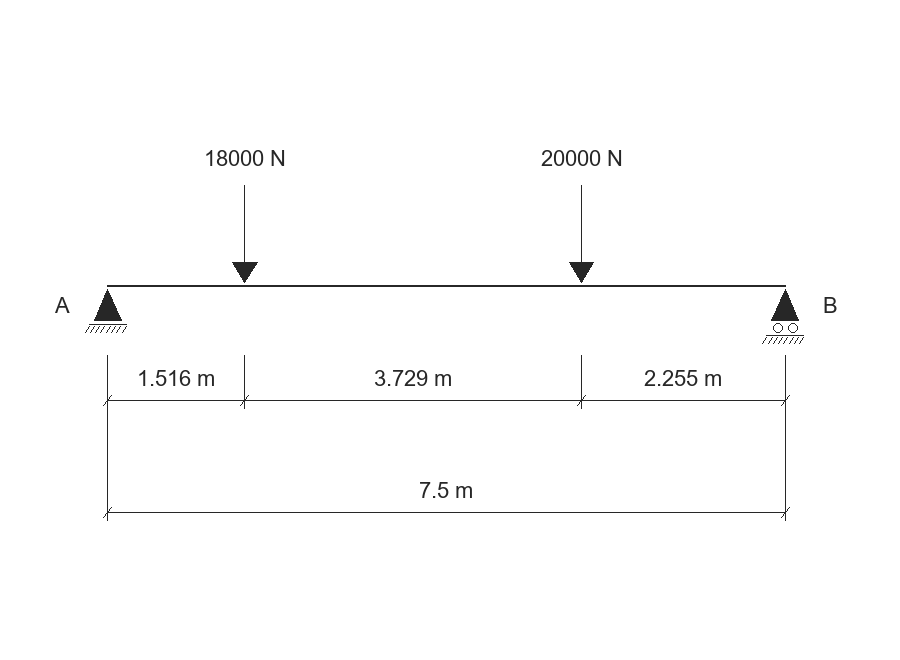pin_support: (85, 289, 127, 333)
point_load: (232, 185, 258, 283), (569, 185, 594, 283)
roller_support: (762, 289, 804, 344)
